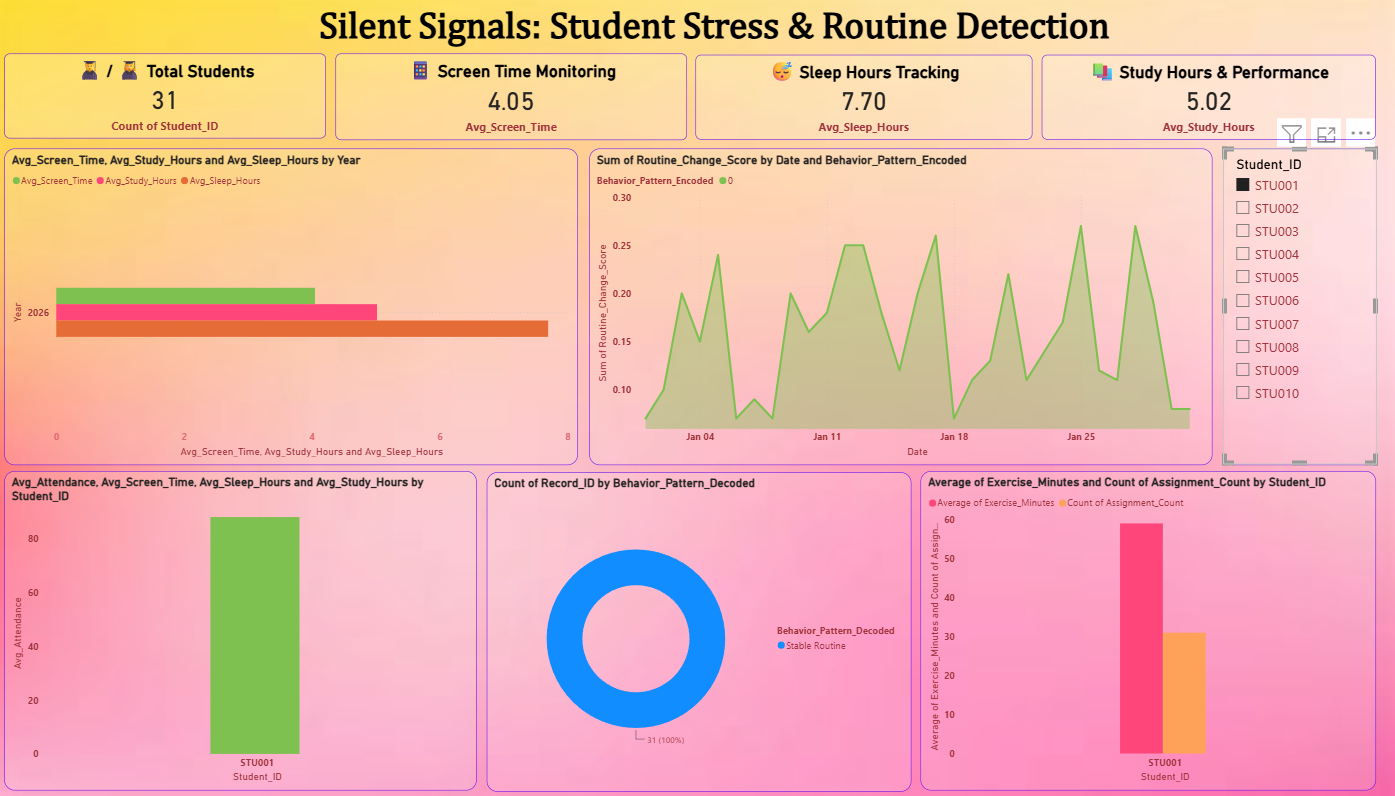

The dashboard page shown, as its layout file describes it:
{"tool":"powerbi","page":{"name":"Page 1","canvas":[2000,1150],"ordinal":0},"visuals":[{"type":"donutChart","fields":{"Category":["Silent_Signals_Cleaned_10Students.Behavior_Pattern_Decoded"],"Y":["CountNonNull(Silent_Signals_Cleaned_10Students.Record_ID)"]},"box":[702,684,604,454],"z":0},{"type":"clusteredBarChart","fields":{"Category":["Silent_Signals_Cleaned_10Students.Date.Variation.Date Hierarchy.Year","Silent_Signals_Cleaned_10Students.Date.Variation.Date Hierarchy.Quarter","Silent_Signals_Cleaned_10Students.Date.Variation.Date Hierarchy.Month","Silent_Signals_Cleaned_10Students.Date.Variation.Date Hierarchy.Day"],"Y":["Silent_Signals_Cleaned_10Students.Avg_Screen_Time","Silent_Signals_Cleaned_10Students.Avg_Study_Hours","Silent_Signals_Cleaned_10Students.Avg_Sleep_Hours"]},"box":[16,224,816,450],"z":1000},{"type":"clusteredColumnChart","fields":{"Category":["Silent_Signals_Cleaned_10Students.Student_ID"],"Y":["Avg(Silent_Signals_Cleaned_10Students.Exercise_Minutes)","CountNonNull(Silent_Signals_Cleaned_10Students.Assignment_Count)"]},"box":[1320,682,648,454],"z":2000},{"type":"clusteredColumnChart","fields":{"Category":["Silent_Signals_Cleaned_10Students.Student_ID"],"Y":["Silent_Signals_Cleaned_10Students.Avg_Attendance"]},"box":[16,682,672,454],"z":3000},{"type":"stackedAreaChart","fields":{"Y":["Sum(Silent_Signals_Cleaned_10Students.Routine_Change_Score)"],"Series":["Silent_Signals_Cleaned_10Students.Behavior_Pattern_Encoded"],"Category":["Silent_Signals_Cleaned_10Students.Date"]},"box":[848,224,886,450],"z":4000},{"type":"slicer","fields":{"Values":["Silent_Signals_Cleaned_10Students.Student_ID"]},"box":[1750,224,218,450],"z":5000},{"type":"card","title":"👨🎓 / 👩🎓 Total Students","fields":{"Values":["CountNonNull(Silent_Signals_Cleaned_10Students.Student_ID)"]},"box":[15.4,88.5,457.7,121.2],"z":7000},{"type":"card","title":"📱 Screen Time Monitoring","fields":{"Values":["Silent_Signals_Cleaned_10Students.Avg_Screen_Time"]},"box":[486.5,88.5,500,123.1],"z":8000},{"type":"card","title":"😴 Sleep Hours Tracking","fields":{"Values":["Silent_Signals_Cleaned_10Students.Avg_Sleep_Hours"]},"box":[1000,90.4,478.8,121.2],"z":9000},{"type":"card","title":"📚 Study Hours & Performance","fields":{"Values":["Silent_Signals_Cleaned_10Students.Avg_Study_Hours"]},"box":[1492.3,90.4,475,121.2],"z":10000},{"type":"textbox","box":[424,16,1206,78],"z":11000}]}

Visuals, with their boxes in screenshot pixels (x1, y1, x2, y2), scaled from the page's 2000x1150 canvas onto the 1395x796 screenshot:
donutChart - Silent_Signals_Cleaned_10Students.Behavior_Pattern_Decoded x CountNonNull(Silent_Signals_Cleaned_10Students.Record_ID): Rect(490, 473, 911, 788)
clusteredBarChart - Silent_Signals_Cleaned_10Students.Date.Variation.Date Hierarchy.Year x Silent_Signals_Cleaned_10Students.Date.Variation.Date Hierarchy.Quarter: Rect(11, 155, 580, 467)
clusteredColumnChart - Silent_Signals_Cleaned_10Students.Student_ID x Avg(Silent_Signals_Cleaned_10Students.Exercise_Minutes): Rect(921, 472, 1373, 786)
clusteredColumnChart - Silent_Signals_Cleaned_10Students.Student_ID x Silent_Signals_Cleaned_10Students.Avg_Attendance: Rect(11, 472, 480, 786)
stackedAreaChart - Sum(Silent_Signals_Cleaned_10Students.Routine_Change_Score) x Silent_Signals_Cleaned_10Students.Behavior_Pattern_Encoded: Rect(591, 155, 1209, 467)
slicer - Silent_Signals_Cleaned_10Students.Student_ID: Rect(1221, 155, 1373, 467)
"👨🎓 / 👩🎓 Total Students" card: Rect(11, 61, 330, 145)
"📱 Screen Time Monitoring" card: Rect(339, 61, 688, 146)
"😴 Sleep Hours Tracking" card: Rect(698, 63, 1031, 146)
"📚 Study Hours & Performance" card: Rect(1041, 63, 1372, 146)
textbox: Rect(296, 11, 1137, 65)
